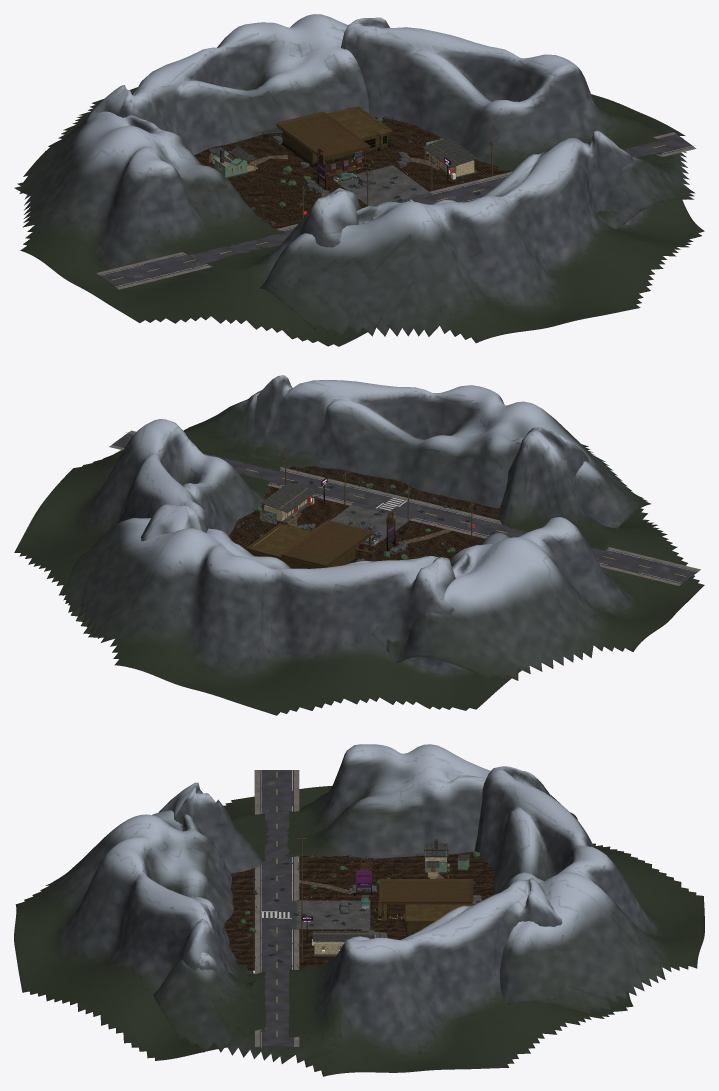
Rendered from station-1.glb.
3 renders of one model, top to bottom at view 1: azimuth 30°, elevation 25°; view 2: azimuth 150°, elevation 25°; view 3: azimuth 270°, elevation 25°, orthographic.
Parts seen in each view (by area): view 1: S_S_Mountain, S_Plane, S_W_Asphalt, S_Cube.001, S_W_AsphaltOld, S_111, S_H_Shingle, S_W_Gravel, S_Cube.023; view 2: S_S_Mountain, S_Plane, S_W_Asphalt, S_Cube.001, S_W_Gravel, S_111, S_W_AsphaltOld, S_H_Shingle, S_W_PaintWhite; view 3: S_S_Mountain, S_Plane, S_W_Asphalt, S_Cube.001, S_W_AsphaltOld, S_W_Gravel, S_H_Shingle, S_111, S_Cube.023.
Boxes of the visible parts, bbox=[...] form: S_S_Mountain: bbox=[14, 14, 704, 346]; S_Plane: bbox=[194, 117, 512, 228]; S_W_Asphalt: bbox=[99, 134, 693, 287]; S_Cube.001: bbox=[275, 111, 371, 177]; S_W_AsphaltOld: bbox=[134, 152, 656, 277]; S_111: bbox=[277, 106, 392, 165]; S_H_Shingle: bbox=[209, 137, 477, 167]; S_W_Gravel: bbox=[96, 132, 696, 289]; S_Cube.023: bbox=[272, 136, 410, 193]; S_S_Mountain: bbox=[14, 375, 704, 715]; S_Plane: bbox=[229, 466, 499, 562]; S_W_Asphalt: bbox=[112, 432, 698, 583]; S_Cube.001: bbox=[280, 520, 374, 567]; S_W_Gravel: bbox=[109, 430, 700, 585]; S_111: bbox=[246, 523, 360, 568]; S_W_AsphaltOld: bbox=[330, 492, 670, 570]; S_H_Shingle: bbox=[261, 482, 315, 512]; S_W_PaintWhite: bbox=[125, 432, 697, 583]; S_S_Mountain: bbox=[14, 744, 704, 1076]; S_Plane: bbox=[224, 851, 495, 970]; S_W_Asphalt: bbox=[260, 770, 296, 1046]; S_Cube.001: bbox=[378, 879, 473, 921]; S_W_AsphaltOld: bbox=[264, 781, 370, 1030]; S_W_Gravel: bbox=[254, 770, 299, 1046]; S_H_Shingle: bbox=[312, 843, 470, 941]; S_111: bbox=[403, 904, 472, 935]; S_Cube.023: bbox=[339, 883, 481, 938].
Size of the model in its own units: 154 by 26.18 by 152.
Materials: 160 (105 with a texture image).
